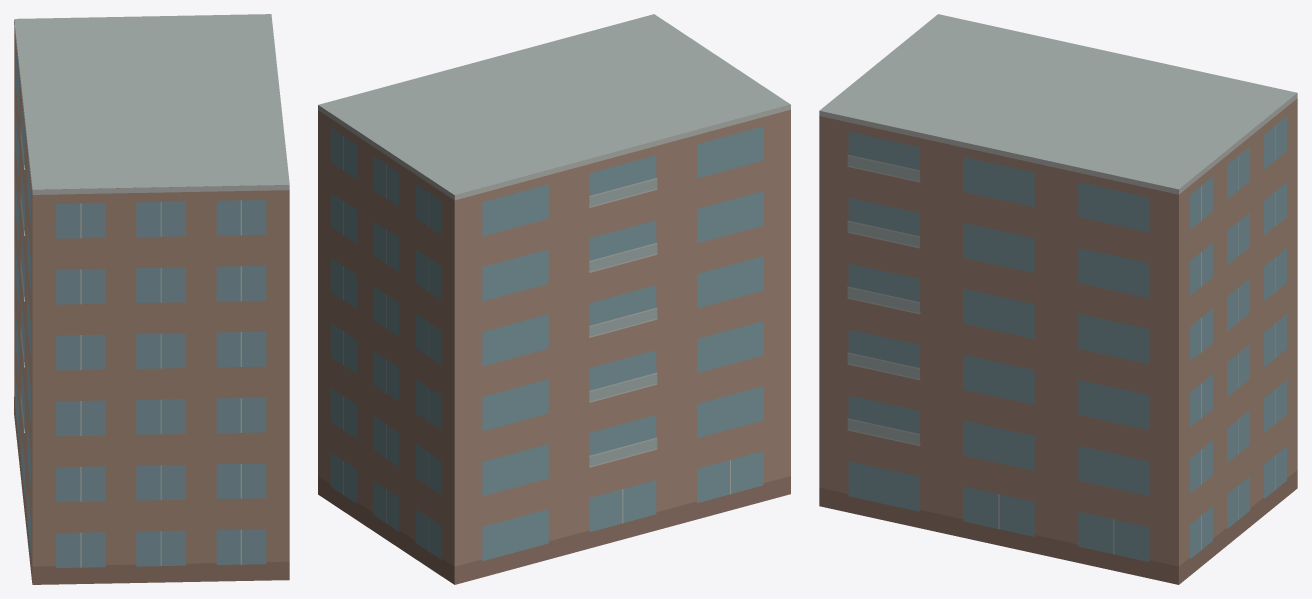
Rendered from survey-upis-32554846.glb.
3 views of the same model, side by side, from view 1: azimuth 30°, elevation 25°; view 2: azimuth 150°, elevation 25°; view 3: azimuth 270°, elevation 25° (orthographic).
Visible parts, largest first — view 1: survey-upis-32554846.tmp; view 2: survey-upis-32554846.tmp; view 3: survey-upis-32554846.tmp.
Boxes of the visible parts, x1,y1,x2,y2 form: survey-upis-32554846.tmp: (14,14,289,584); survey-upis-32554846.tmp: (318,14,790,584); survey-upis-32554846.tmp: (819,14,1297,584).
Bounding box in the file's own units: 17.42 × 18.3 × 20.07.
